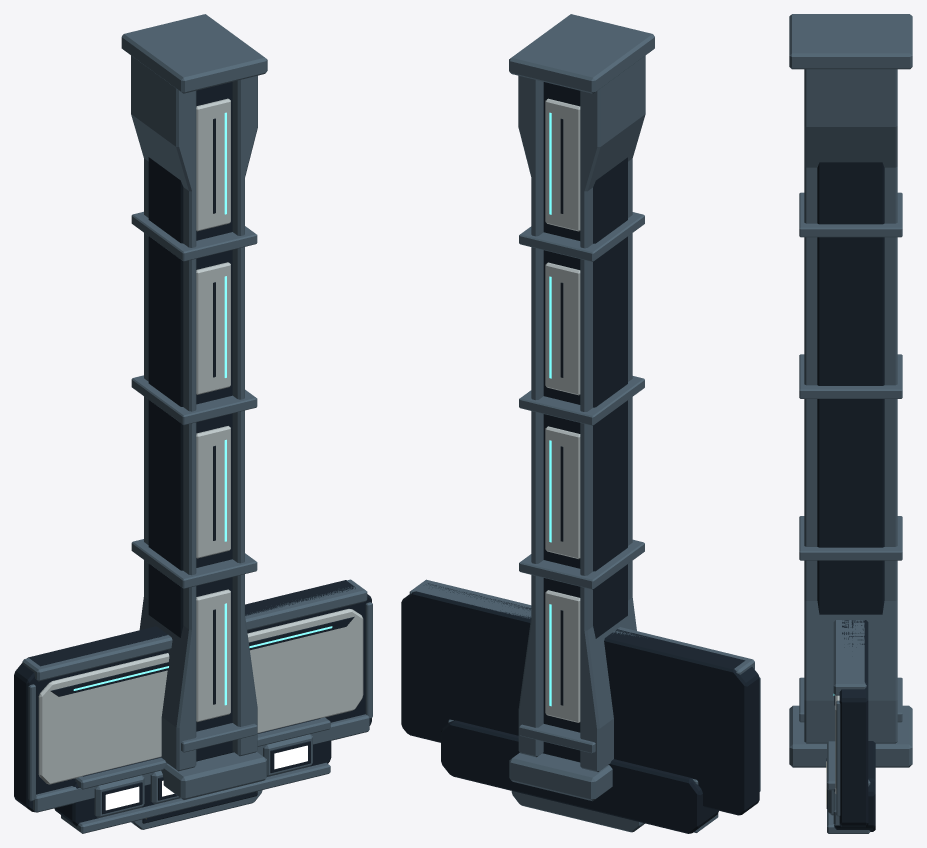
The model's file is kit-low-v1.glb.
3 renders of one model, left to right at view 1: azimuth 30°, elevation 25°; view 2: azimuth 150°, elevation 25°; view 3: azimuth 270°, elevation 25°, orthographic.
Parts seen in each view (by area): view 1: support-pylon_alloy, barrier-panel_ceramic, support-pylon_graphite, support-pylon_ceramic, barrier-panel_graphite, barrier-panel_alloy, light-fixture_alloy, light-fixture_graphite, light-fixture_warm, support-pylon_cyan, vent-module_alloy; view 2: support-pylon_alloy, barrier-panel_graphite, support-pylon_graphite, support-pylon_ceramic, light-fixture_graphite, barrier-panel_alloy, vent-module_alloy, support-pylon_cyan; view 3: support-pylon_alloy, support-pylon_graphite, barrier-panel_graphite, barrier-panel_alloy, light-fixture_graphite, light-fixture_alloy.
Boxes of the visible parts, x1=… form: support-pylon_alloy: x1=121, y1=14, x2=267, y2=799; barrier-panel_ceramic: x1=38, y1=609, x2=363, y2=784; support-pylon_graphite: x1=148, y1=82, x2=233, y2=761; support-pylon_ceramic: x1=196, y1=98, x2=230, y2=721; barrier-panel_graphite: x1=14, y1=580, x2=371, y2=812; barrier-panel_alloy: x1=22, y1=579, x2=372, y2=812; light-fixture_alloy: x1=61, y1=717, x2=330, y2=833; light-fixture_graphite: x1=54, y1=718, x2=331, y2=826; light-fixture_warm: x1=105, y1=745, x2=307, y2=810; support-pylon_cyan: x1=224, y1=112, x2=226, y2=705; vent-module_alloy: x1=131, y1=790, x2=262, y2=829; support-pylon_alloy: x1=509, y1=14, x2=654, y2=801; barrier-panel_graphite: x1=401, y1=583, x2=759, y2=815; support-pylon_graphite: x1=542, y1=82, x2=627, y2=762; support-pylon_ceramic: x1=545, y1=98, x2=580, y2=722; light-fixture_graphite: x1=441, y1=720, x2=718, y2=833; barrier-panel_alloy: x1=409, y1=579, x2=760, y2=791; vent-module_alloy: x1=511, y1=791, x2=644, y2=832; support-pylon_cyan: x1=549, y1=112, x2=551, y2=706; support-pylon_alloy: x1=789, y1=14, x2=912, y2=767; support-pylon_graphite: x1=817, y1=162, x2=884, y2=614; barrier-panel_graphite: x1=834, y1=620, x2=868, y2=827; barrier-panel_alloy: x1=833, y1=620, x2=866, y2=825; light-fixture_graphite: x1=826, y1=741, x2=875, y2=831; light-fixture_alloy: x1=827, y1=741, x2=870, y2=833.
Size of the model in its own units: 8 by 17 by 2.5.
